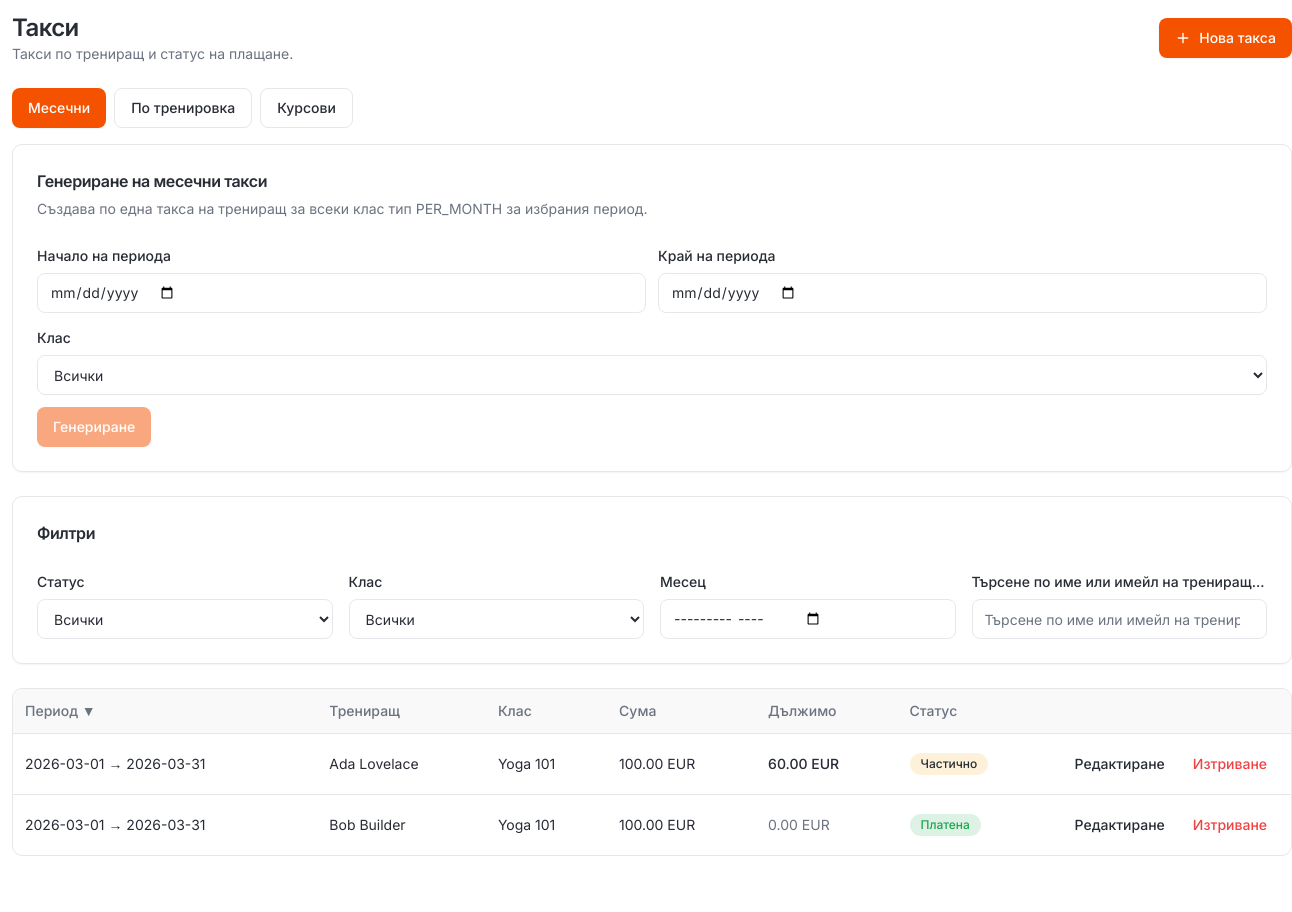
Scenario: FeesListPage › Generate-monthly form posts to /fees/generate-monthly and reports created/skipped
Expected: the text "Ada Lovelace" is shown, [317,734,486,794]
Type "2026-03-01" into the date field labelled "Начало на периода". click: [342, 293]
box: [37,273,646,313]
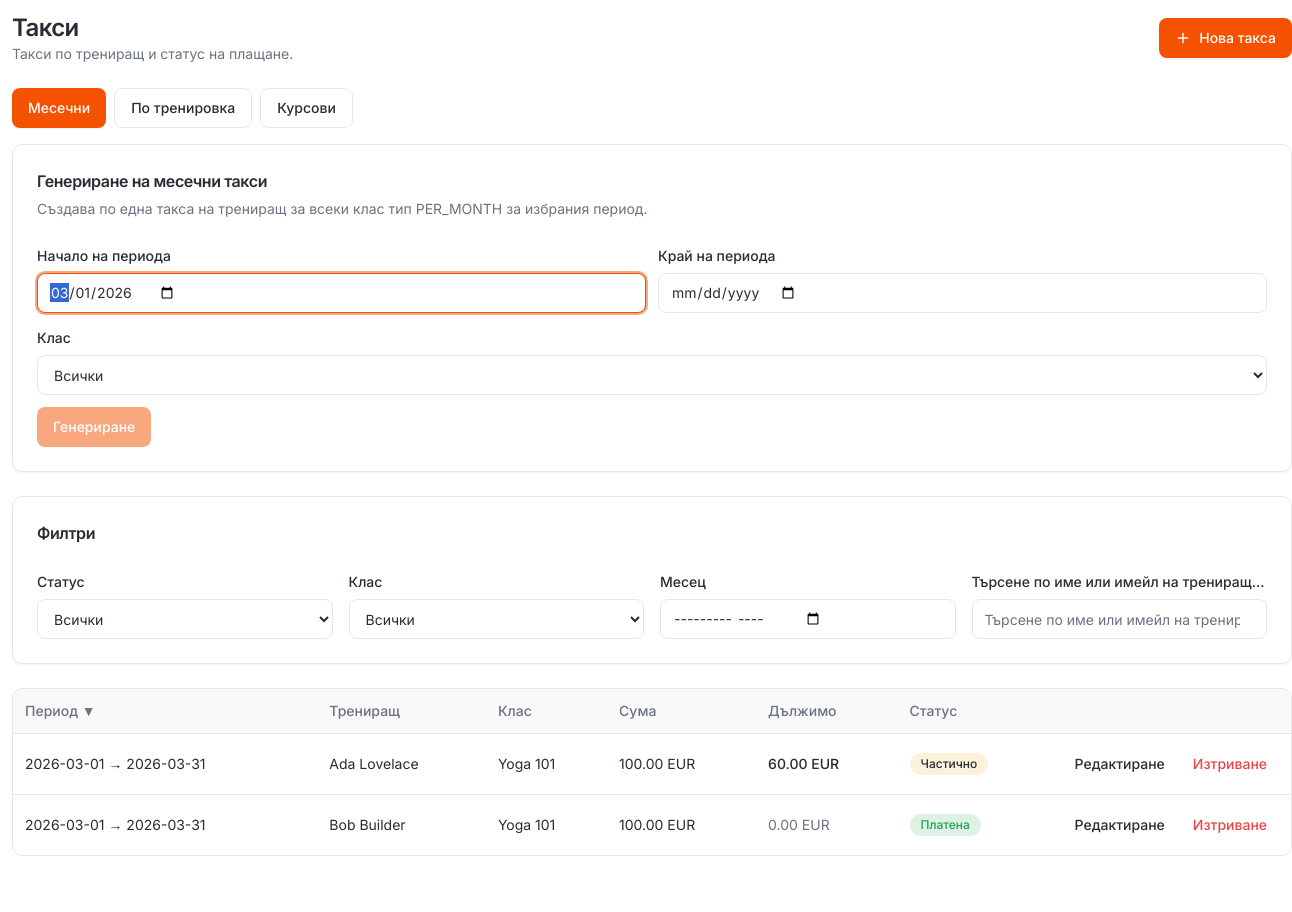
Type "2026-03-31" into the date field labelled "Край на периода". click: [962, 293]
box: [658,273,1267,313]
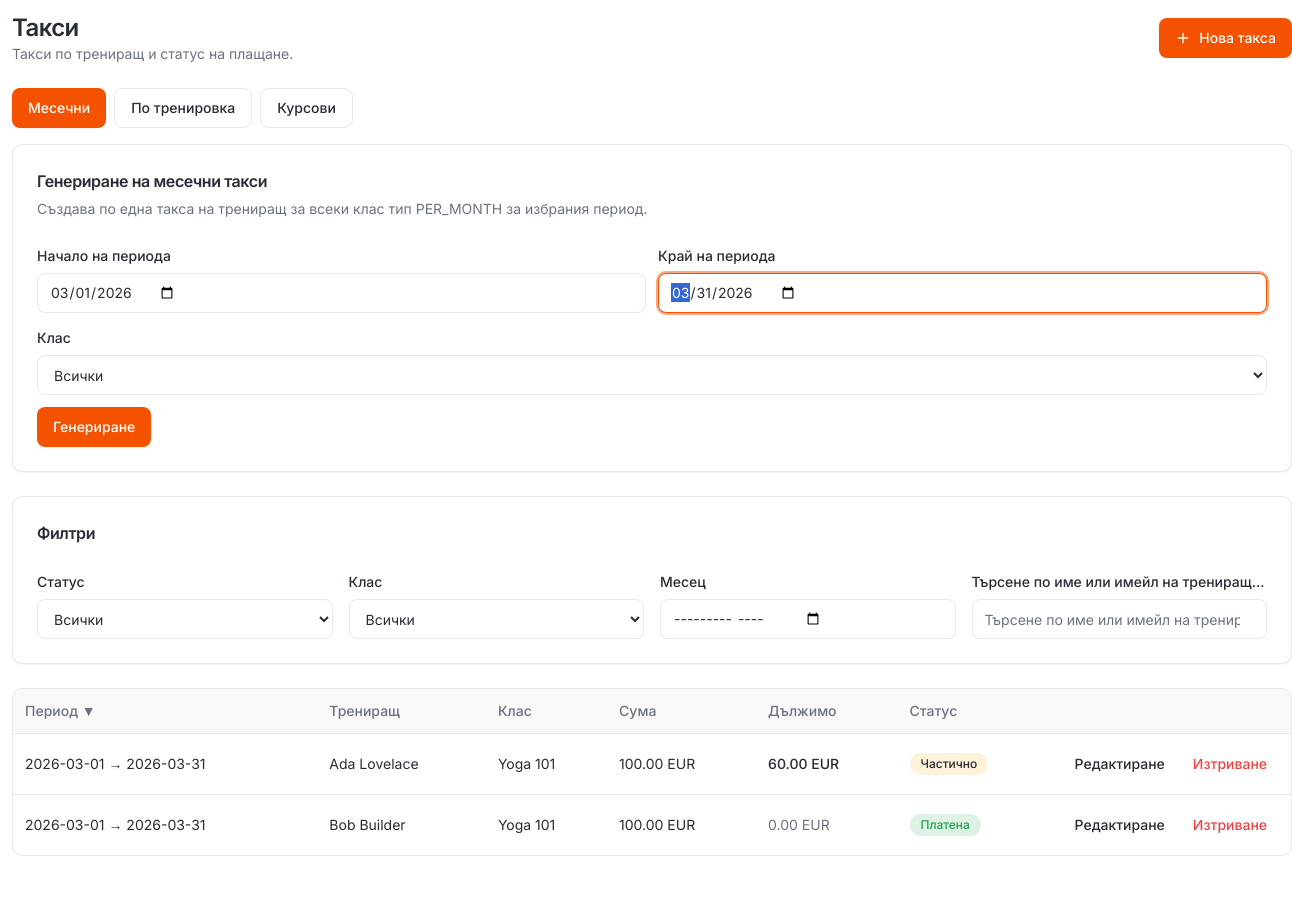
Click the button "Генериране". click: [94, 427]
box: [37,407,151,447]
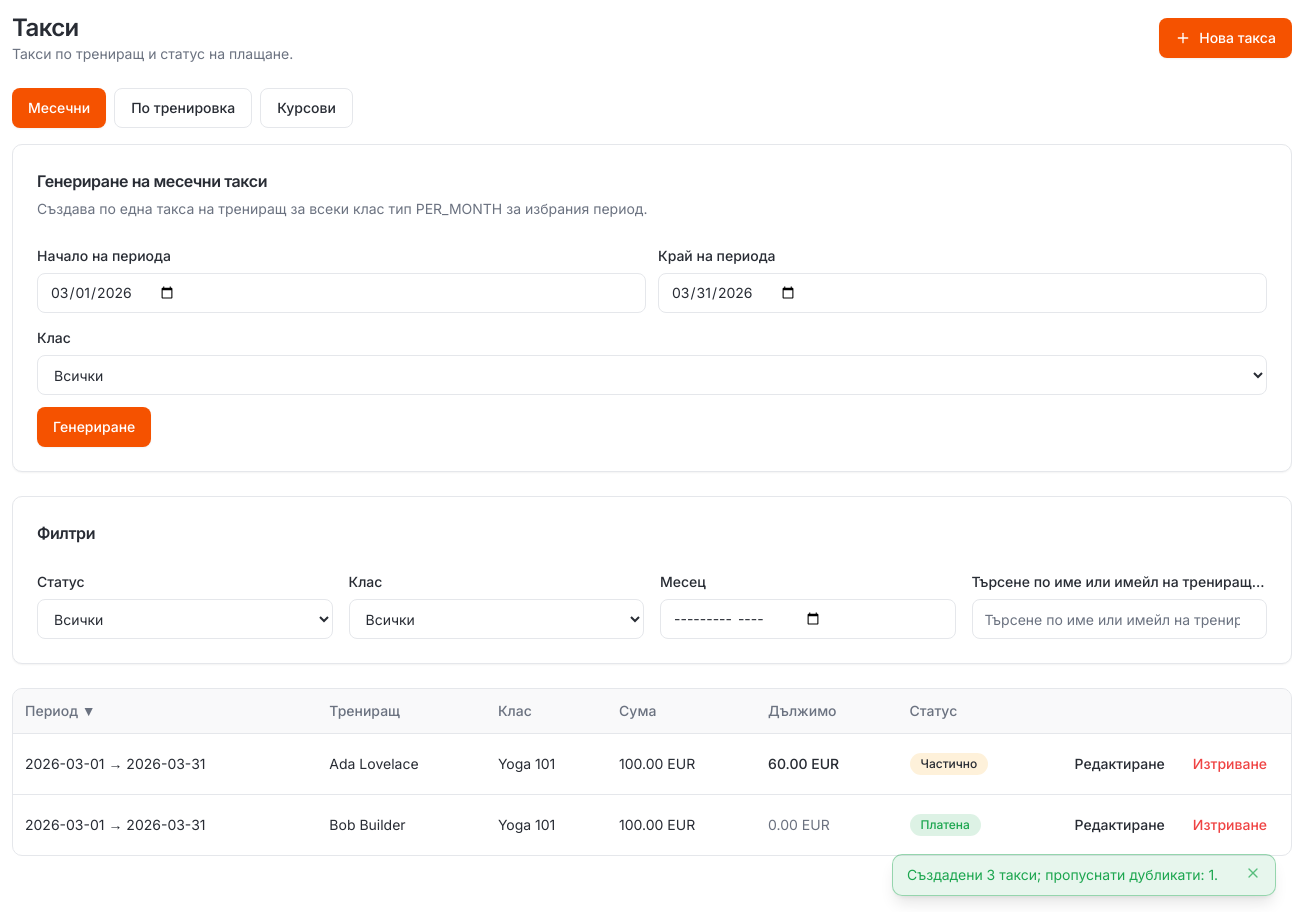
Now the text "Създадени 3 такси; пропуснати дубликати: 1." is shown, box [907,865,1233,885]
